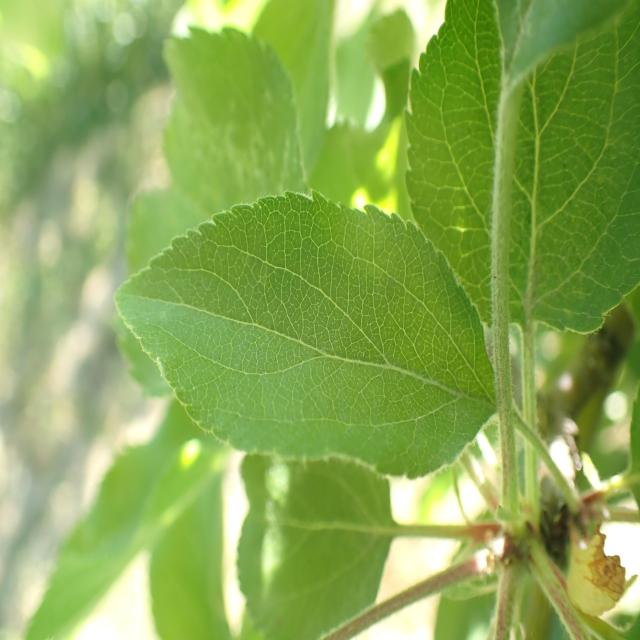healthy: (113, 192, 498, 479), (403, 0, 640, 337), (235, 451, 396, 640)
